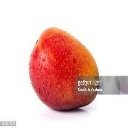mango: (28, 27, 98, 111)
